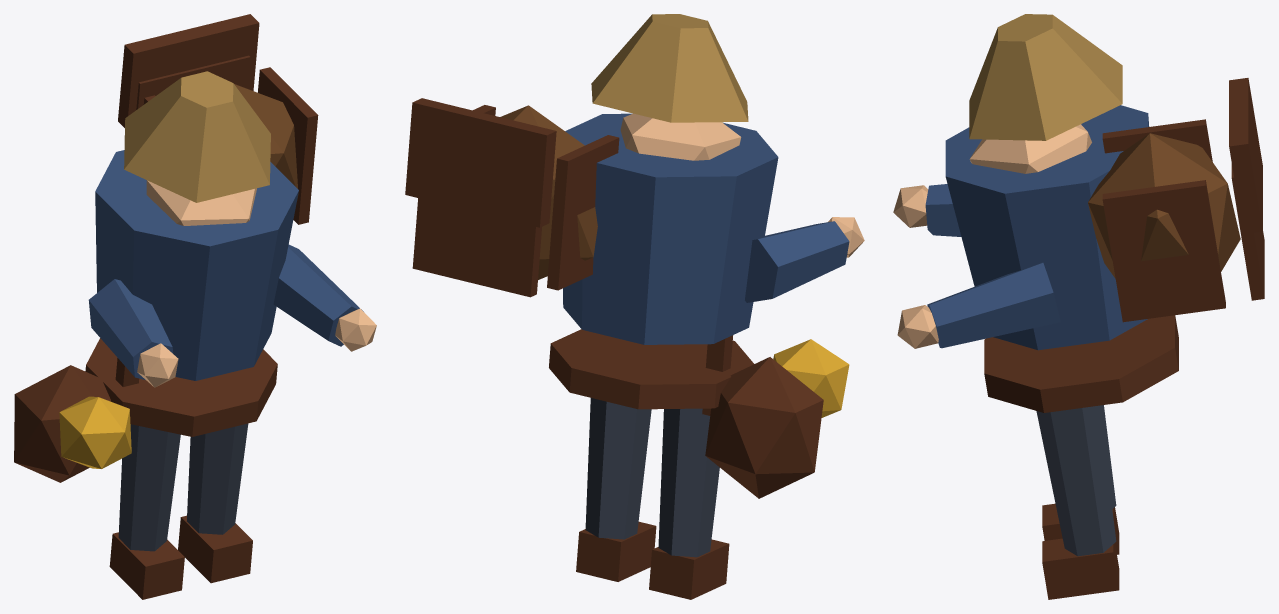
Rendered from npcpose_merchant_greet_03.glb.
3 views of the same model, side by side, from view 1: azimuth 30°, elevation 25°; view 2: azimuth 150°, elevation 25°; view 3: azimuth 270°, elevation 25° (orthographic). The views are drawn at different scales.
Parts seen in each view (by area): view 1: npcpose; view 2: npcpose; view 3: npcpose.
Part boxes in pixels (x1=…): npcpose: x1=14, y1=14, x2=376, y2=599; npcpose: x1=405, y1=14, x2=864, y2=599; npcpose: x1=893, y1=14, x2=1264, y2=599.
Bounding box in the file's own units: 1.2 × 1.86 × 1.14.
